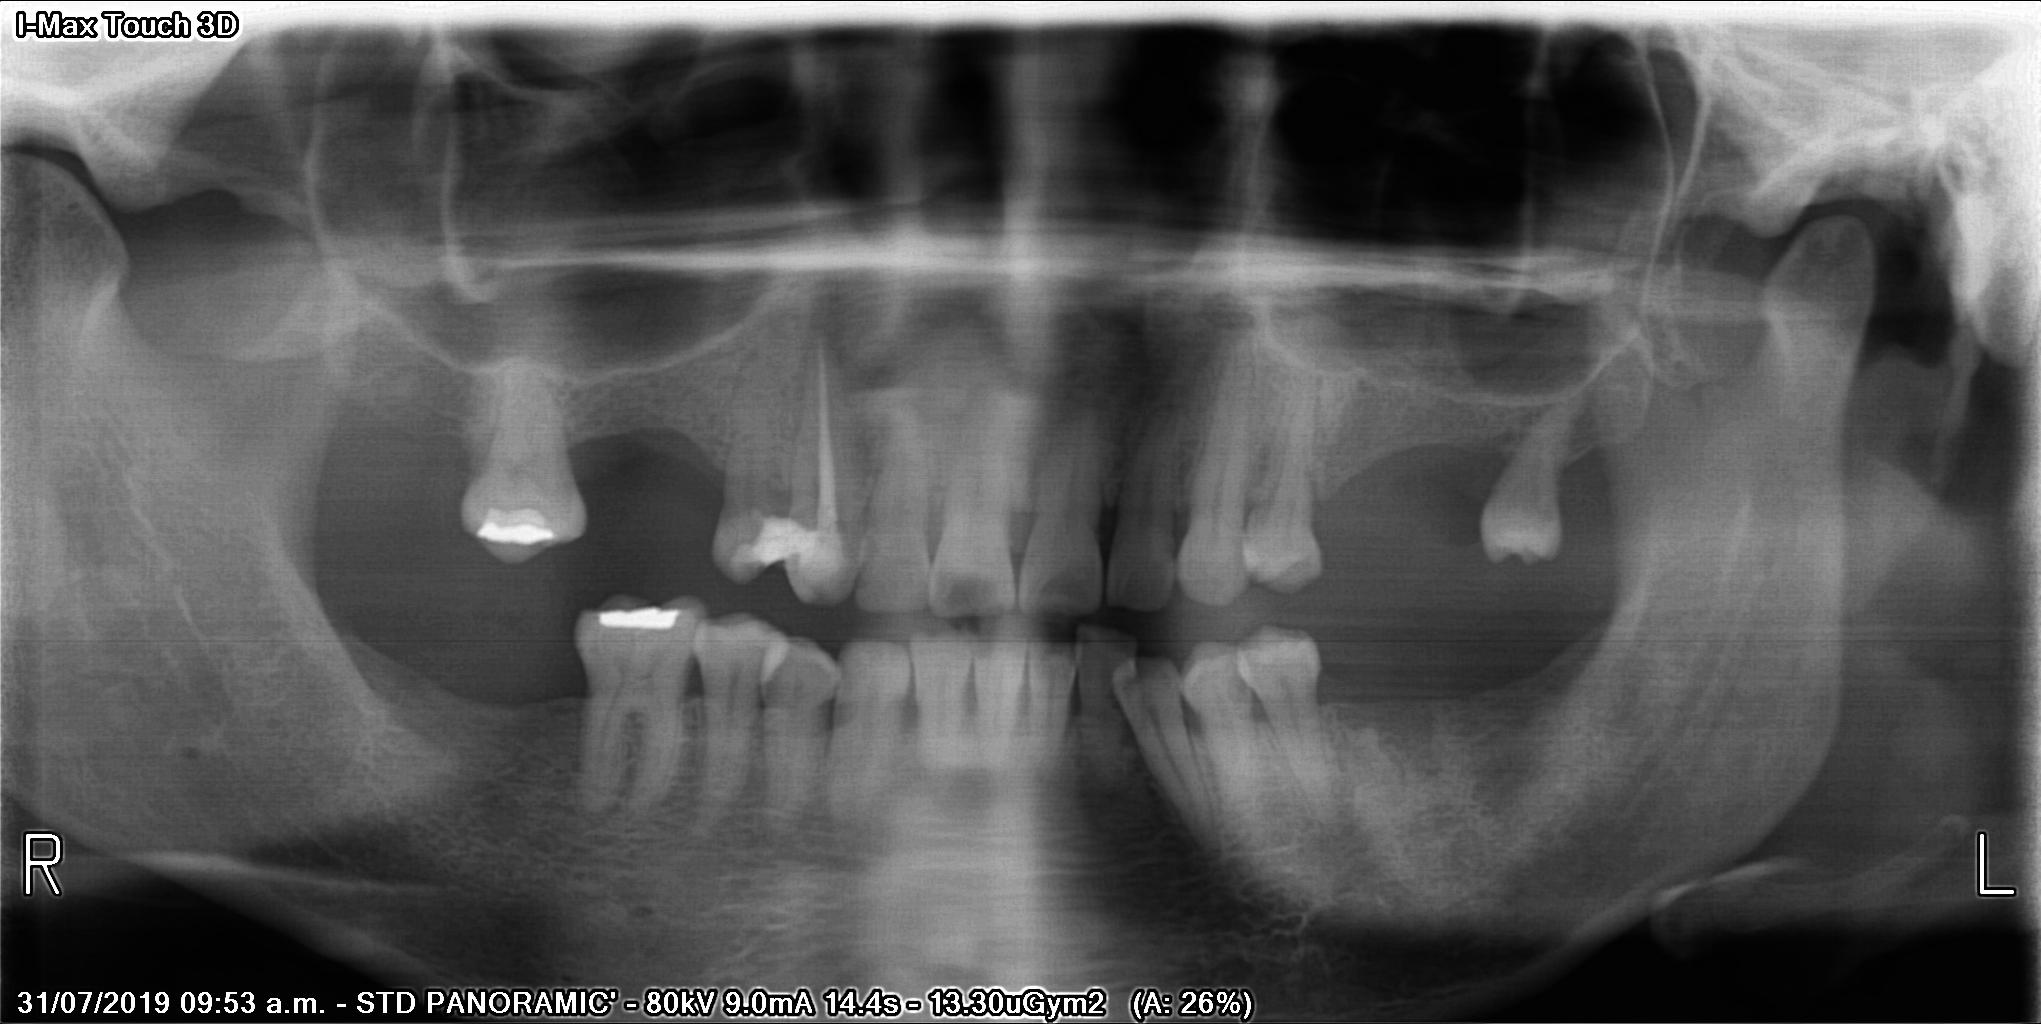Çürük: (744, 503, 821, 573), (470, 494, 568, 547), (585, 602, 696, 633)
